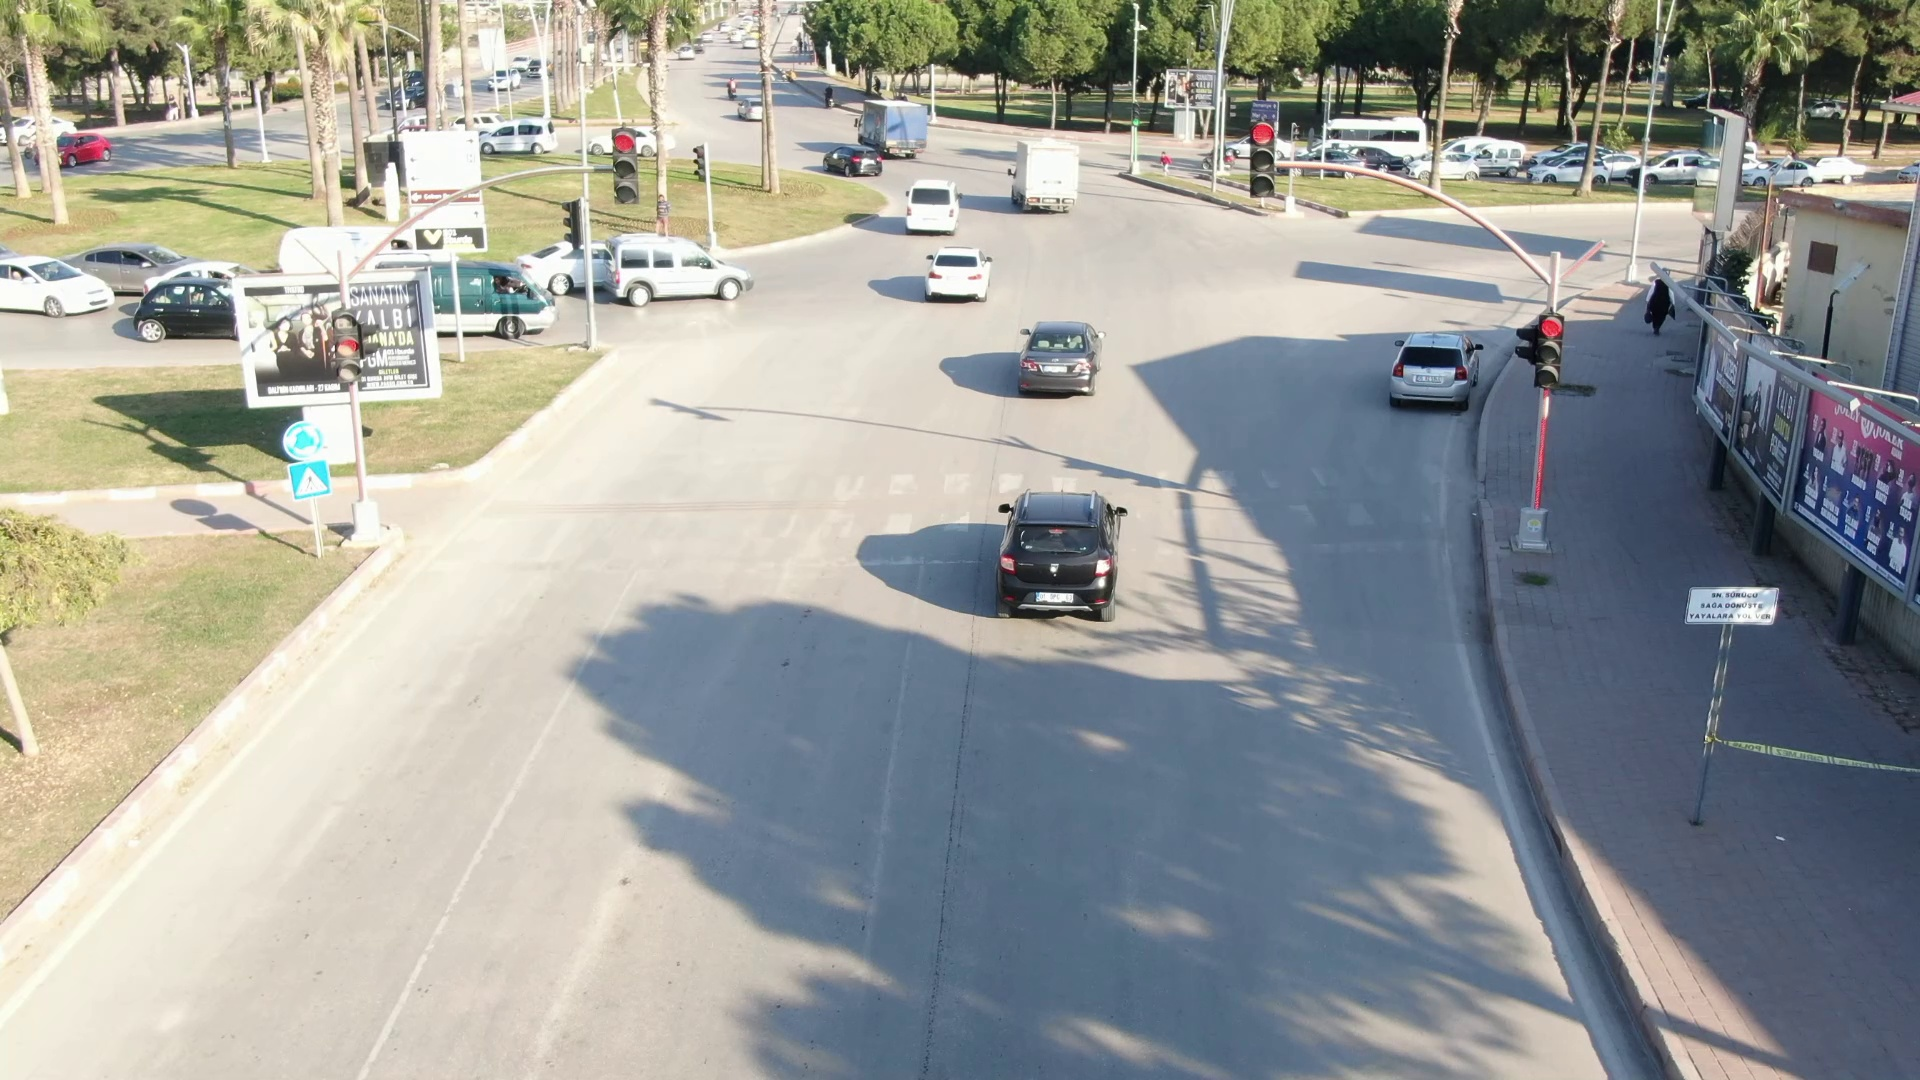car: (985, 475, 1158, 643), (600, 225, 774, 325), (999, 309, 1124, 410), (1381, 319, 1494, 425), (1002, 134, 1082, 210), (917, 244, 1008, 310), (895, 173, 976, 238)
person: (1640, 257, 1689, 349)
